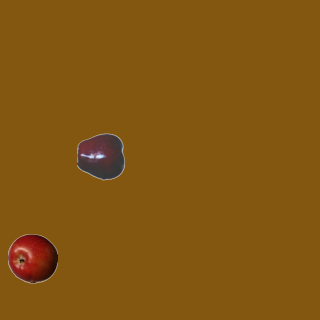Apple Braeburn: (7, 233, 57, 283)
Apple Red Delicious: (76, 131, 126, 181)
